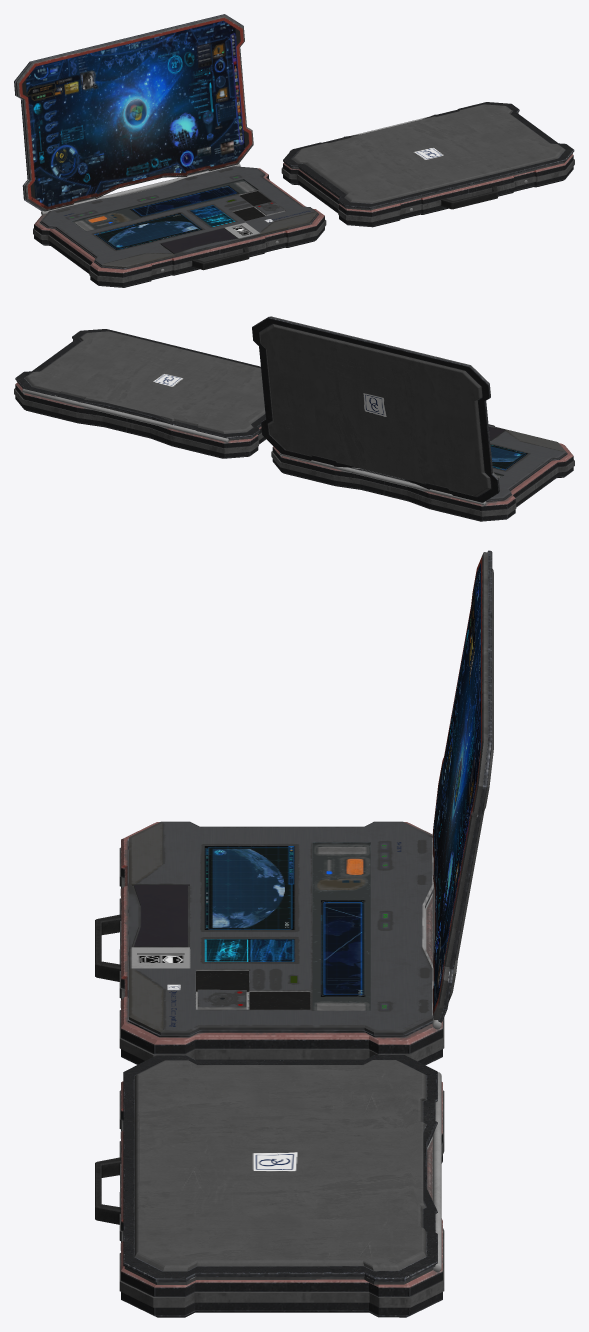
The picture shows the model from 3 angles, top to bottom: view 1: azimuth 30°, elevation 25°; view 2: azimuth 150°, elevation 25°; view 3: azimuth 270°, elevation 25°; orthographic projection. The views are drawn at different scales.
Visible parts, largest first — view 1: Main Case Base_0, Main Case Base.001_1; view 2: Main Case Base_0, Main Case Base.001_1; view 3: Main Case Base_0, Main Case Base.001_1.
Part boxes in pixels (x1,y1,x2,y2): Main Case Base_0: [14, 14, 326, 287]; Main Case Base.001_1: [281, 102, 574, 227]; Main Case Base_0: [252, 316, 574, 521]; Main Case Base.001_1: [14, 329, 265, 458]; Main Case Base_0: [95, 550, 493, 1065]; Main Case Base.001_1: [95, 1055, 444, 1317].
Size of the model in its own units: 6.15 by 1.97 by 2.22.
Materials: 1 (1 with a texture image).
